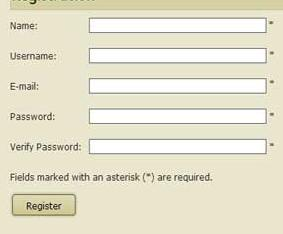button: (11, 194, 77, 217)
field: (86, 107, 268, 126), (88, 47, 268, 65), (87, 78, 267, 95), (88, 138, 268, 155), (88, 17, 269, 33)
field_with_label: (9, 76, 269, 97), (11, 106, 270, 127), (10, 46, 270, 66), (10, 137, 269, 156), (10, 16, 270, 34)
